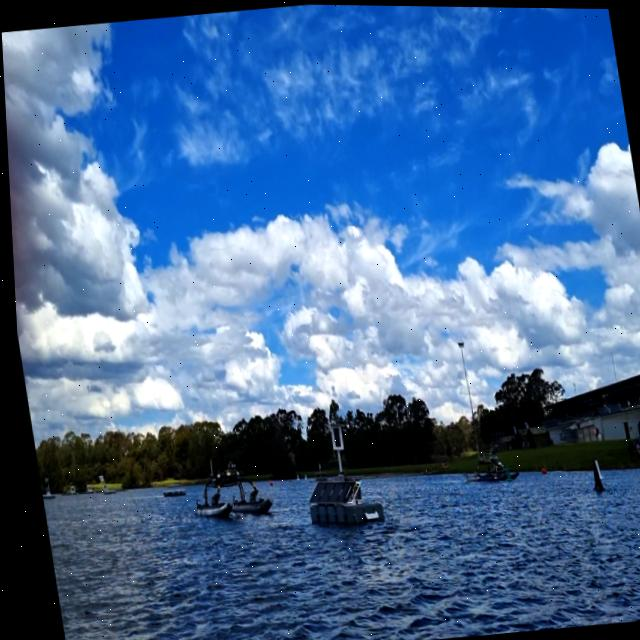led: (327, 424, 337, 447)
